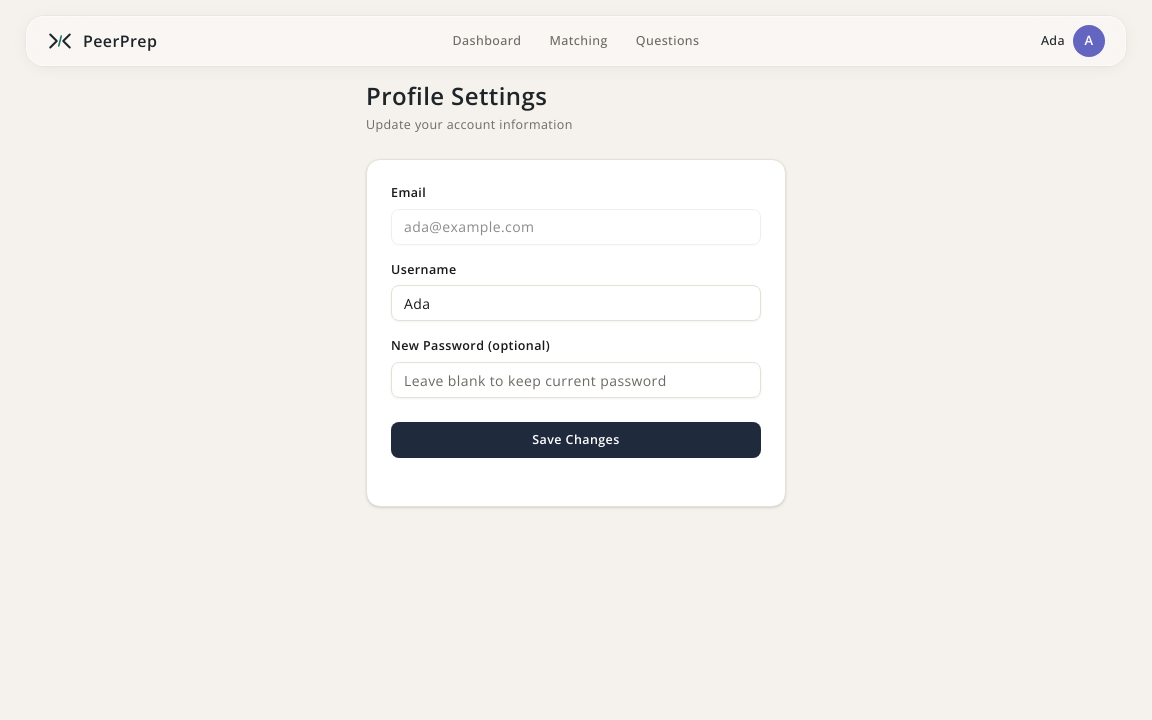
ProfilePage › shows success and refreshes auth after saving
The width and height of the screenshot is (1152, 720).
Replace the text in the field showing "Ada" below "Username" with "Ada Lovelace" at (576, 303), box [391,285,761,321]
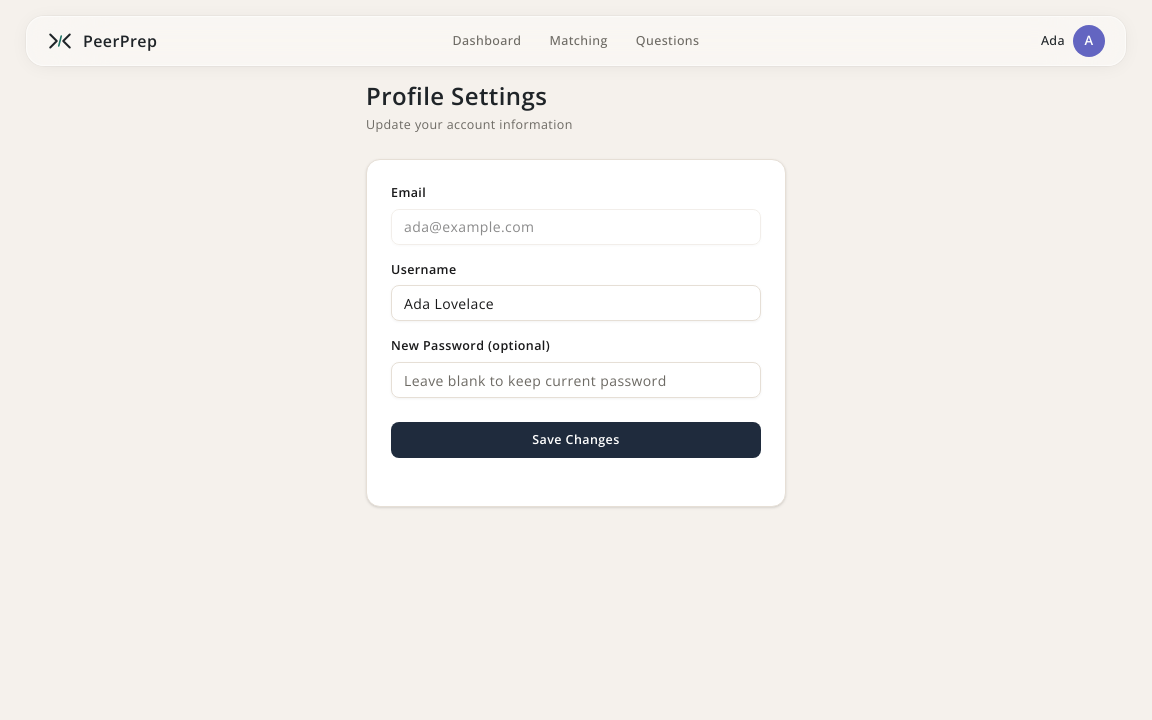
Type "ValidPass123" into the password field with placeholder "Leave blank to keep current password" at (576, 380), box [391,362,761,398]
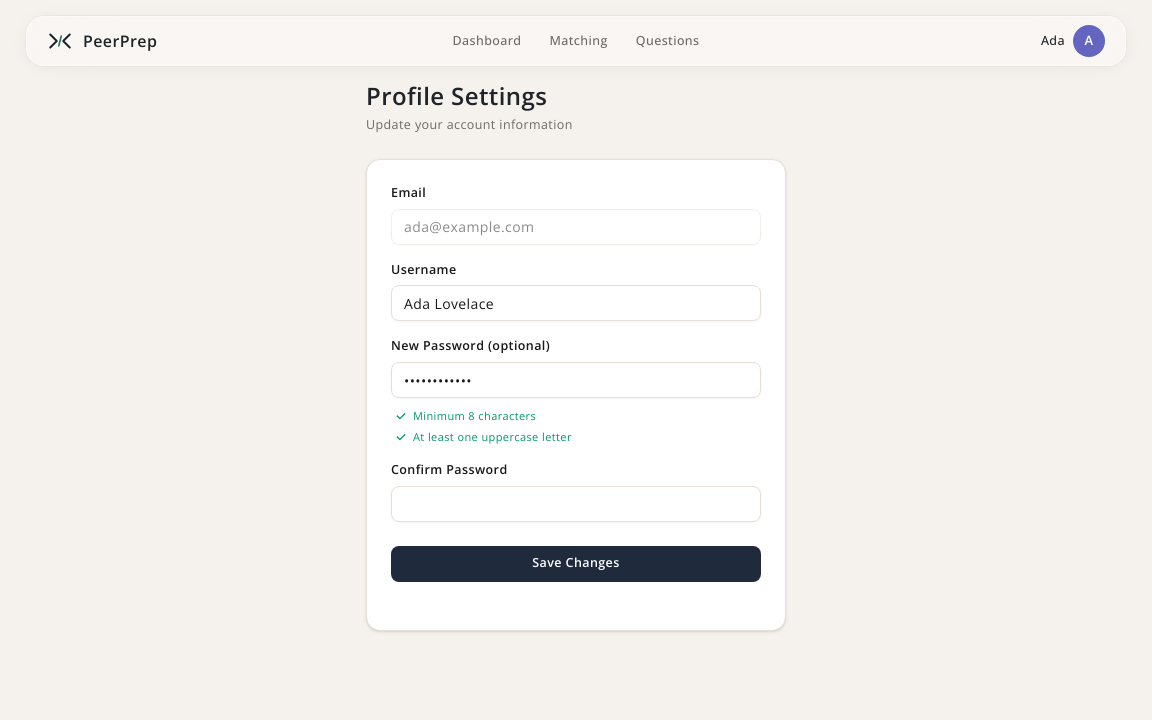
Type "ValidPass123" into the password field below "Confirm Password" at (576, 504), box [391,486,761,522]
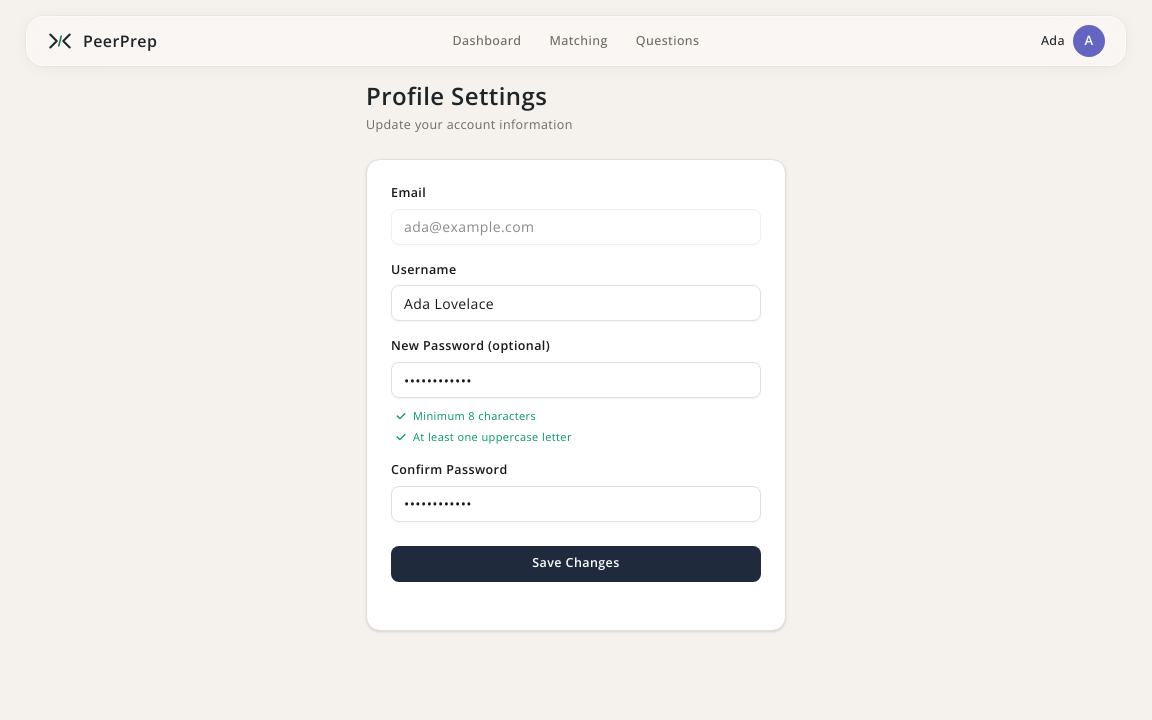
Click the button "Save Changes" at (576, 564), box [391,546,761,582]
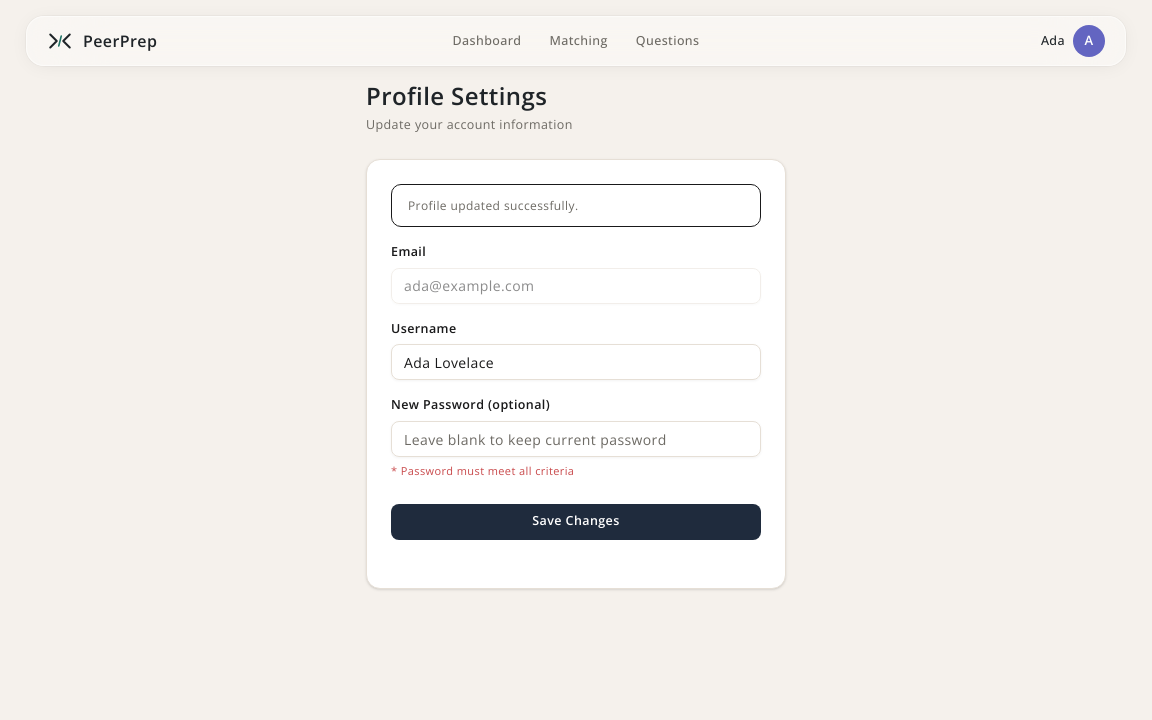
Check: the text "Profile updated successfully." is shown, box [408,197,578,214]
